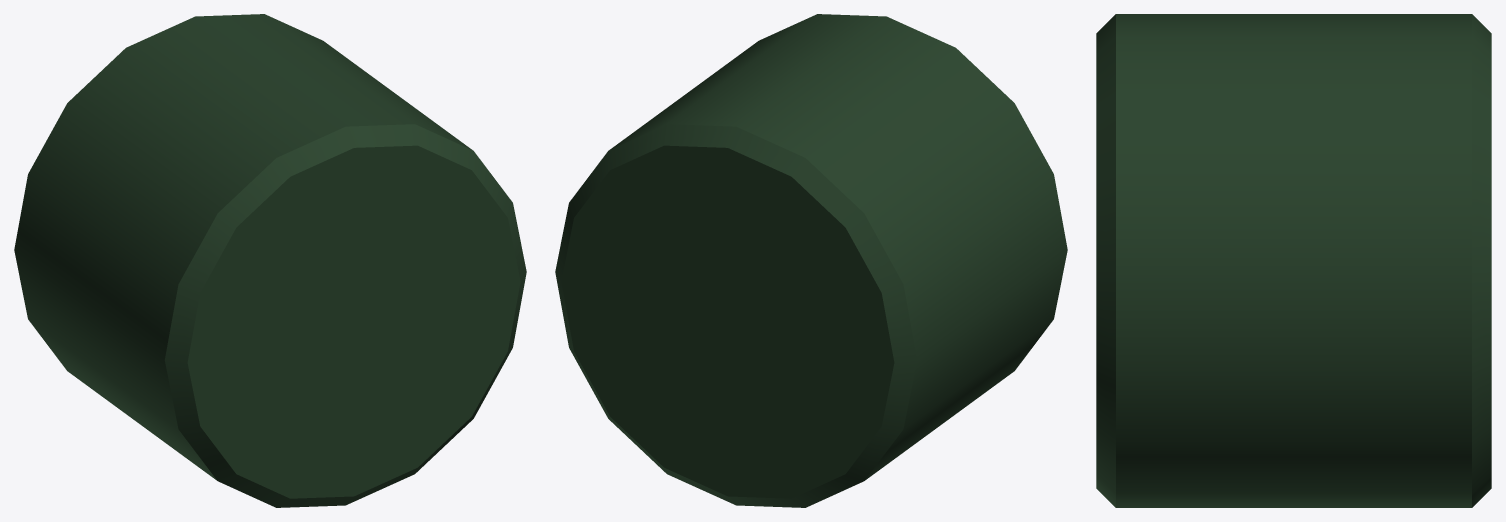
Rendered from SM_Prop_farm_bale_2.glb.
3 views of the same model, side by side, from view 1: azimuth 30°, elevation 25°; view 2: azimuth 150°, elevation 25°; view 3: azimuth 270°, elevation 25° (orthographic). The views are drawn at different scales.
Parts seen in each view (by area): view 1: SM_Prop_farm_bale_2; view 2: SM_Prop_farm_bale_2; view 3: SM_Prop_farm_bale_2.
Boxes of the visible parts, x1,y1,x2,y2 form: SM_Prop_farm_bale_2: [14, 14, 526, 507]; SM_Prop_farm_bale_2: [555, 14, 1067, 507]; SM_Prop_farm_bale_2: [1096, 14, 1491, 507].
Bounding box in the file's own units: 1.5 × 1.5 × 1.2.
